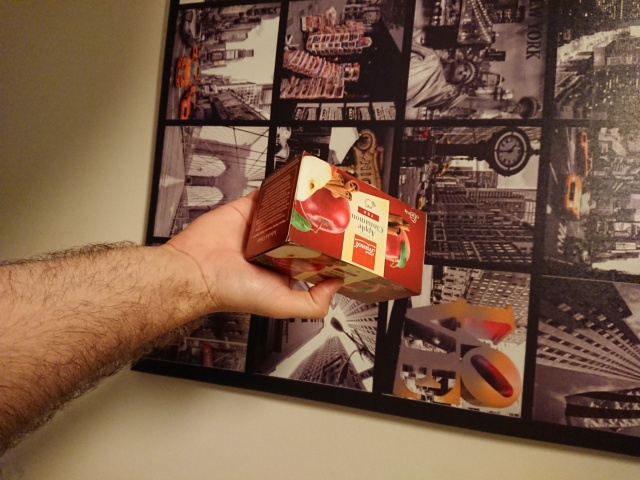Franck Apple Cinnamon Tea 60g: (240, 147, 430, 307)
